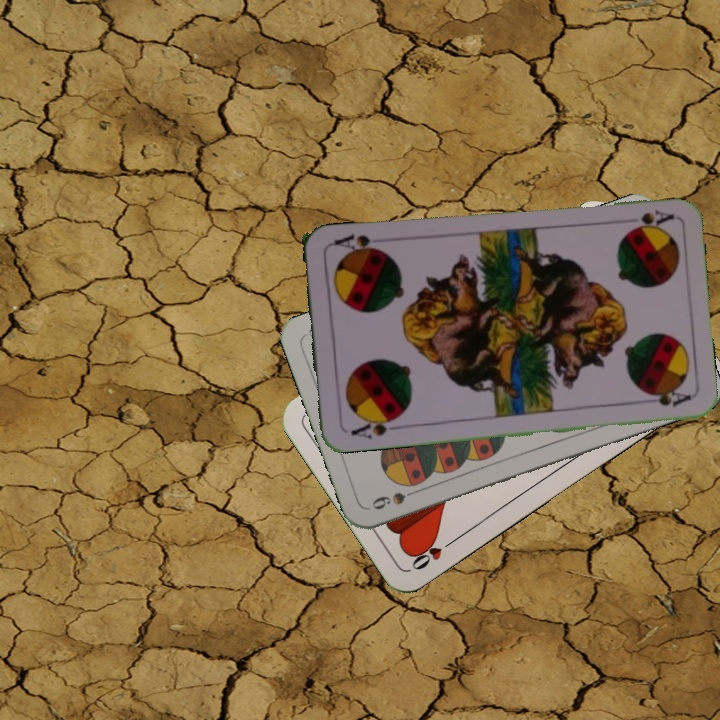HO: (407, 534, 459, 573)
S9: (367, 484, 424, 513)
SA: (347, 412, 403, 442), (626, 206, 676, 232)
